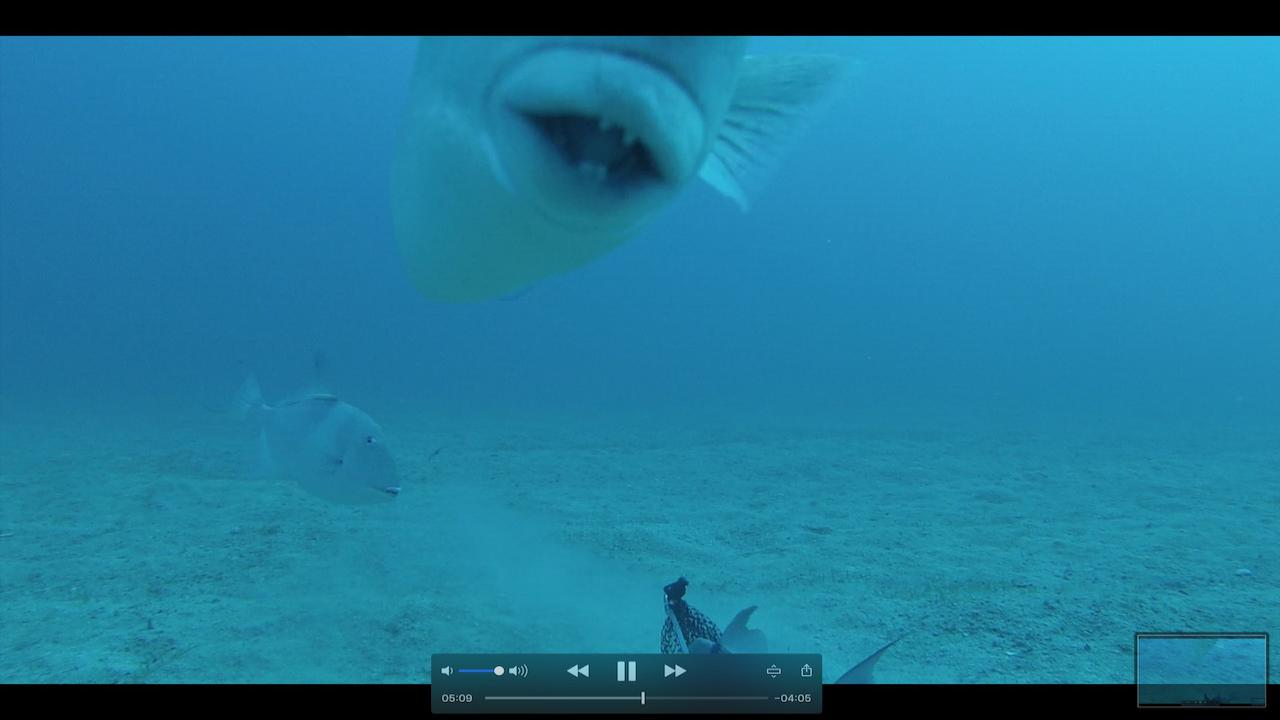balistes: (386, 36, 864, 305), (225, 346, 401, 508)
